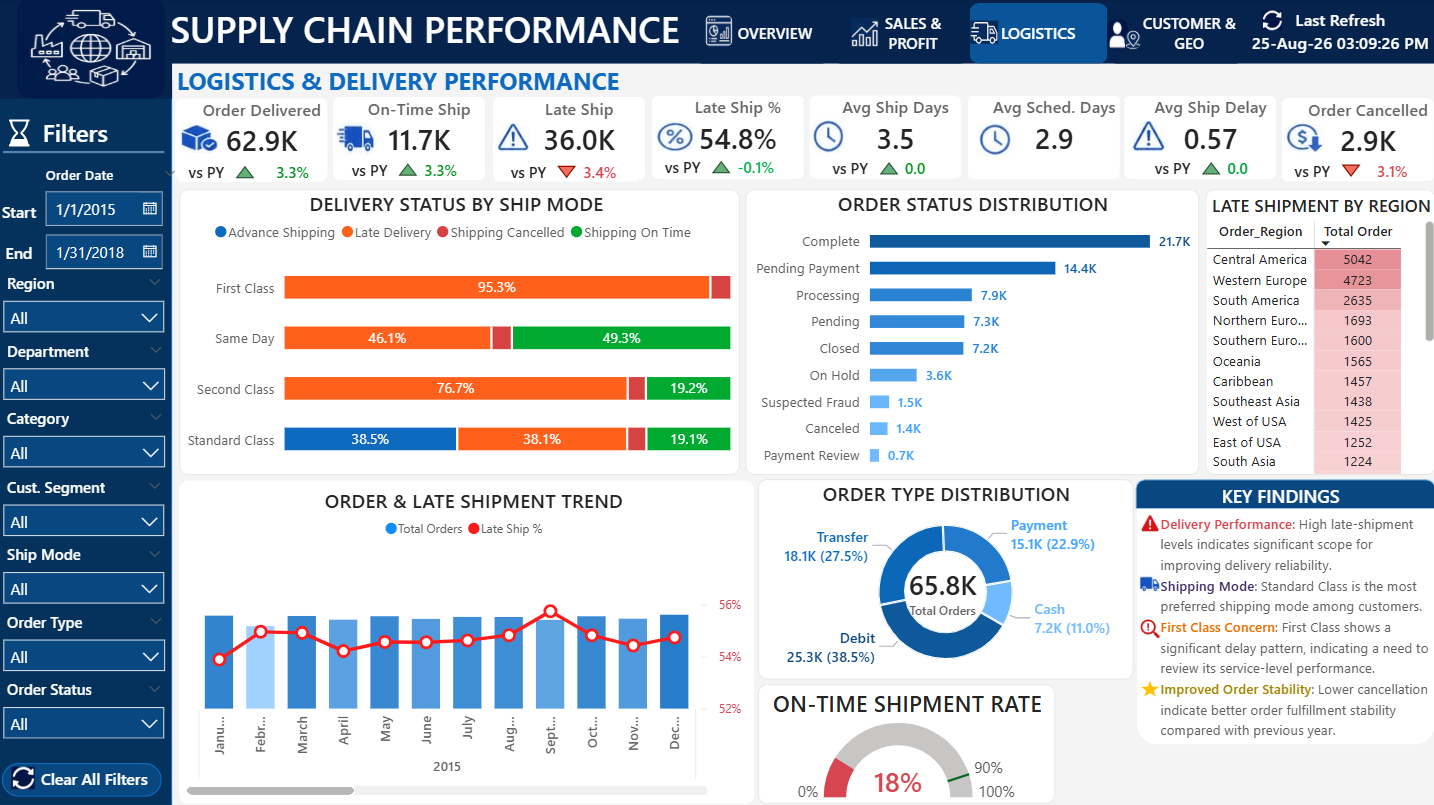

What the dashboard file says about the page in this screenshot:
{"tool":"powerbi","page":{"name":"LOGISTICS","canvas":[1280,720],"ordinal":2},"visuals":[{"type":"image","box":[16.8,0,131.8,89.9],"z":0,"group":"g32"},{"type":"shape","box":[146.2,0,1133.8,58.7],"z":0},{"type":"pageNavigator","box":[618.8,4.7,493.5,54.1],"z":0,"group":"g34"},{"type":"image","box":[758.9,18.4,24.8,25.9],"z":0,"group":"g8"},{"type":"group","id":"g1","title":"Group 10","box":[987.4,19,30.6,27.2],"z":0,"group":"g15"},{"type":"group","id":"g2","title":"Group 9","box":[987.4,19,18.8,27.1],"z":0,"group":"g1"},{"type":"image","box":[987.4,19,18.8,27.1],"z":0,"group":"g2"},{"type":"image","box":[866,20.5,25,20.6],"z":0,"group":"g19"},{"type":"shape","box":[722.4,86.9,135.6,74.4],"z":0,"group":"g9"},{"type":"shape","box":[863.9,86.9,135.6,74.4],"z":0,"group":"g30"},{"type":"shape","box":[1002.4,86.9,135.6,74.4],"z":0,"group":"g20"},{"type":"shape","box":[582.4,87.2,135.6,74.4],"z":0,"group":"g28"},{"type":"shape","box":[441.1,87.5,135.6,74.4],"z":0,"group":"g16"},{"type":"shape","box":[298.6,88,135.6,74.4],"z":0,"group":"g33"},{"type":"group","id":"g3","title":"Group 18","box":[157.8,88.6,135.6,75.5],"z":0,"group":"g35"},{"type":"shape","box":[157.8,88.6,135.6,74.4],"z":0,"group":"g3"},{"type":"shape","box":[1143.5,88.7,135.6,74.4],"z":0,"group":"g31"},{"type":"textbox","box":[3.8,104.5,128.8,32.5],"z":0,"group":"g10"},{"type":"image","box":[723.9,108,31.1,30.6],"z":0,"group":"g21"},{"type":"image","box":[1006,109,34.4,28.3],"z":0,"group":"g22"},{"type":"image","box":[161.4,109.5,35.6,28.3],"z":0,"group":"g23"},{"type":"image","box":[584.1,109.8,35,27.8],"z":0,"group":"g24"},{"type":"image","box":[299.3,110,37.8,29.4],"z":0,"group":"g25"},{"type":"image","box":[440.9,110.8,33.9,25.6],"z":0,"group":"g26"},{"type":"image","box":[1146,111.3,38.8,26.2],"z":0,"group":"g27"},{"type":"image","box":[871.5,111.7,31.7,29.4],"z":0,"group":"g17"},{"type":"group","id":"g4","title":"Group 6","box":[0,149.5,166.3,563.8],"z":0,"group":"g29"},{"type":"group","id":"g5","title":"Group 4","box":[0,149.5,166.3,511.2],"z":0,"group":"g4"},{"type":"group","id":"g6","title":"Group 1","box":[34.7,149.5,131.2,97.5],"z":0,"group":"g11"},{"type":"slicer","fields":{"Values":["Dim_Date.Order_Date"]},"box":[34.7,149.5,131.2,97.5],"z":0,"group":"g6"},{"type":"hundredPercentStackedBarChart","title":"DELIVERY STATUS BY SHIP MODE","fields":{"Category":["Dim_Ship.Ship_Mode"],"Y":["_Measures.Total Orders"],"Series":["Dim_Ship.Ship_Status"]},"box":[161,170,499,254],"z":0,"group":"g36"},{"type":"group","id":"g7","title":"Group 2","box":[0,245.7,153.8,415],"z":0,"group":"g5"},{"type":"donutChart","title":"ORDER TYPE DISTRIBUTION","fields":{"Y":["_Measures.Total Orders"],"Category":["Fact_Order.Order_Type"]},"box":[676.7,428.9,334.4,178.7],"z":0,"group":"g37"},{"type":"shape","box":[1013.3,428.9,267.4,26.7],"z":0,"group":"g41"},{"type":"lineClusteredColumnComboChart","title":"ORDER & LATE SHIPMENT TREND","fields":{"Y":["_Measures.Total Orders"],"Y2":["_Measures.Late Ship %"],"Category":["Dim_Date.Order_Date.Variation.Date Hierarchy.Year","Dim_Date.Order_Date.Variation.Date Hierarchy.Month"]},"box":[161,430,512,288],"z":0,"group":"g38"},{"type":"shape","box":[1014,430,266,235],"z":0,"group":"g39"},{"type":"textbox","box":[1034.8,458,245.6,203.3],"z":0,"group":"g12"},{"type":"image","box":[1016.8,460,17,16],"z":0,"group":"g13"},{"type":"slicer","fields":{"Values":["Dim_Ship.Ship_Mode"]},"box":[0,487.1,152.6,52.9],"z":0,"group":"g7"},{"type":"image","box":[1016.7,553.3,19,17],"z":0,"group":"g40"},{"type":"image","box":[1016.1,606.9,19,17],"z":0,"group":"g18"},{"type":"shape","box":[3.8,681.7,142.5,30],"z":0,"group":"g14"},{"type":"group","id":"g8","title":"Group 14","box":[758.9,18.4,24.1,24.8],"z":1000,"group":"g34"},{"type":"image","box":[1002.7,29,15.3,17.2],"z":1000,"group":"g1"},{"type":"shape","box":[0,75,155,645],"z":1000},{"type":"group","id":"g9","title":"Group 18","box":[722.4,86.9,135.6,74.4],"z":1000,"group":"g35"},{"type":"cardVisual","fields":{"Data":["_Measures.Avg Scheduled Ship Days"]},"box":[882.8,86.9,116.7,53],"z":1000,"group":"g30"},{"type":"group","id":"g10","title":"Group 7","box":[3,104.5,144.5,45],"z":1000,"group":"g29"},{"type":"tableEx","fields":{"Values":["Table.Column1","_Measures.YoY Late Ship % %"]},"box":[585.1,120,130.6,40],"z":1000,"group":"g28"},{"type":"tableEx","fields":{"Values":["Table.Column1","_Measures.YoY Avg Ship Days"]},"box":[735,120.7,118.8,40],"z":1000,"group":"g9"},{"type":"tableEx","fields":{"Values":["Table.Column1","_Measures.YoY Delay Days"]},"box":[1020,120.7,117.5,42.5],"z":1000,"group":"g20"},{"type":"tableEx","fields":{"Values":["Table.Column1","_Measures.YoY On Time %"]},"box":[300.6,121.9,131.2,40],"z":1000,"group":"g33"},{"type":"tableEx","fields":{"Values":["Table.Column1","_Measures.YoY Ship Cancelled %"]},"box":[1147.9,122,128.8,43],"z":1000,"group":"g31"},{"type":"tableEx","fields":{"Values":["Table.Column1","_Measures.YoY Late Ship order %"]},"box":[442.1,123,132.9,40],"z":1000,"group":"g16"},{"type":"tableEx","fields":{"Values":["Table.Column1","_Measures.YoY Order Delivered %"]},"box":[159.7,123.5,131.2,40.6],"z":1000,"group":"g3"},{"type":"shape","box":[3.8,124.5,143.8,25],"z":1000,"group":"g10"},{"type":"group","id":"g11","title":"Group 3","box":[1.3,149.5,165,106.2],"z":1000,"group":"g5"},{"type":"textbox","box":[1.3,180.3,35.1,75],"z":1000,"group":"g11"},{"type":"textbox","box":[1090.2,431.8,116.1,23.3],"z":1000,"group":"g41"},{"type":"group","id":"g12","title":"Group 23","box":[1015,458,265.3,203.3],"z":1000,"group":"g39"},{"type":"group","id":"g13","title":"Group 14","box":[1016.8,460,17,16],"z":1000,"group":"g12"},{"type":"cardVisual","fields":{"Data":["_Measures.Total Orders"]},"box":[789.4,505.2,104.5,47.9],"z":1000,"group":"g37"},{"type":"slicer","fields":{"Values":["Fact_Order.Order_Type"]},"box":[0,547.5,153.8,52.9],"z":1000,"group":"g7"},{"type":"group","id":"g14","title":"Group 5","box":[3.8,679.5,145.3,33.8],"z":1000,"group":"g4"},{"type":"textbox","box":[30,686.7,111.2,26.2],"z":1000,"group":"g14"},{"type":"group","id":"g15","title":"Group 11","box":[987.4,19,30.6,27.2],"z":2000,"group":"g34"},{"type":"cardVisual","fields":{"Data":["_Measures.Avg Ship Days"]},"box":[741.3,86.9,116.7,53],"z":2000,"group":"g9"},{"type":"cardVisual","fields":{"Data":["_Measures.Avg Ship Delay"]},"box":[1021.3,86.9,116.7,53],"z":2000,"group":"g20"},{"type":"cardVisual","fields":{"Data":["_Measures.Late Ship %"]},"box":[601.3,87.2,116.7,53],"z":2000,"group":"g28"},{"type":"group","id":"g16","title":"Group 18","box":[440.9,87.5,135.7,75.5],"z":2000,"group":"g35"},{"type":"cardVisual","fields":{"Data":["_Measures.Late Ship Order"]},"box":[460,87.5,116.7,53],"z":2000,"group":"g16"},{"type":"cardVisual","fields":{"Data":["_Measures.On-Time Ship Order"]},"box":[317.5,88,116.7,53],"z":2000,"group":"g33"},{"type":"cardVisual","fields":{"Data":["_Measures.Total Order Delivered"]},"box":[176.7,88.6,116.7,53],"z":2000,"group":"g3"},{"type":"cardVisual","fields":{"Data":["_Measures.Ship Cancelled Order"]},"box":[1162.4,88.7,116.7,53],"z":2000,"group":"g31"},{"type":"image","box":[3,105.5,31.2,29],"z":2000,"group":"g10"},{"type":"group","id":"g17","title":"Group 14","box":[871.5,111.7,31.7,29.4],"z":2000,"group":"g30"},{"type":"tableEx","title":"LATE SHIPMENT BY REGION","fields":{"Values":["Dim_Location.Order_Region","_Measures.Late Ship Order"]},"box":[1075,170,205,254],"z":2000},{"type":"slicer","fields":{"Values":["Dim_Customer.Customer_Segment"]},"box":[0,426.8,152.6,52.9],"z":2000,"group":"g7"},{"type":"group","id":"g18","title":"Group 14","box":[1016.1,606.9,18.9,17.8],"z":2000,"group":"g12"},{"type":"image","box":[11,685.4,22.5,20],"z":2000,"group":"g14"},{"type":"shape","box":[0,0,155,89.9],"z":3000},{"type":"group","id":"g19","title":"Group 12","box":[866,20.5,25,20.6],"z":3000,"group":"g34"},{"type":"group","id":"g20","title":"Group 18","box":[1002.4,86.9,135.6,76.3],"z":3000,"group":"g35"},{"type":"group","id":"g21","title":"Group 14","box":[723.9,108,31.1,30.6],"z":3000,"group":"g9"},{"type":"group","id":"g22","title":"Group 14","box":[1006,109,34.4,28.3],"z":3000,"group":"g20"},{"type":"group","id":"g23","title":"Group 14","box":[161.4,109.5,35.6,28.3],"z":3000,"group":"g3"},{"type":"group","id":"g24","title":"Group 14","box":[584.1,109.8,35,27.8],"z":3000,"group":"g28"},{"type":"group","id":"g25","title":"Group 14","box":[299.3,110,37.8,29.4],"z":3000,"group":"g33"},{"type":"group","id":"g26","title":"Group 14","box":[440.9,110.8,33.9,25.6],"z":3000,"group":"g16"},{"type":"group","id":"g27","title":"Group 14","box":[1146,111.3,38.8,26.2],"z":3000,"group":"g31"},{"type":"image","box":[1015,513.6,21,16.7],"z":3000,"group":"g12"},{"type":"slicer","fields":{"Values":["Fact_Order.Order_Status"]},"box":[0,607.8,152.6,52.9],"z":3000,"group":"g7"},{"type":"actionButton","box":[4.1,679.5,145,33.8],"z":3000,"group":"g14"},{"type":"image","box":[1125.4,11.5,18.8,17.3],"z":4000,"group":"g42"},{"type":"image","box":[628.9,15.2,25.9,29.9],"z":4000,"group":"g34"},{"type":"group","id":"g28","title":"Group 18","box":[582.4,87.2,135.6,74.4],"z":4000,"group":"g35"},{"type":"group","id":"g29","title":"Group 8","box":[0,104.5,166.3,608.8],"z":4000},{"type":"slicer","fields":{"Values":["Dim_Department.Department_Name"]},"box":[0,306.1,153.8,52.9],"z":4000,"group":"g7"},{"type":"textbox","box":[153.4,6,465,43.1],"z":5000},{"type":"group","id":"g30","title":"Group 18","box":[863.9,86.9,135.6,74.4],"z":5000,"group":"g35"},{"type":"slicer","fields":{"Values":["Dim_Location.Order_Region"]},"box":[0,245.7,152.6,52.9],"z":5000,"group":"g7"},{"type":"textbox","box":[159,58.7,433,31.2],"z":6000},{"type":"group","id":"g31","title":"Group 18","box":[1143.5,88.7,135.6,76.3],"z":6000,"group":"g35"},{"type":"slicer","fields":{"Values":["Dim_Product.Category_Name"]},"box":[0,366.4,153.8,52.9],"z":6000,"group":"g7"},{"type":"cardVisual","fields":{"Data":["Min(Last Refresh.Last Refresh)"]},"box":[1112.4,7.2,167.4,44.7],"z":6500,"group":"g42"},{"type":"group","id":"g32","title":"Group 9","box":[16.8,0,131.8,89.9],"z":7000},{"type":"group","id":"g33","title":"Group 18","box":[298.6,88,135.6,74.4],"z":7000,"group":"g35"},{"type":"group","id":"g34","title":"Group 13","box":[618.8,4.7,493.5,54.1],"z":8000},{"type":"group","id":"g35","title":"Group 15","box":[157.8,86.9,1121.3,78.1],"z":9000},{"type":"group","id":"g36","title":"Group 17","box":[161,170,499,254],"z":10000},{"type":"clusteredBarChart","title":"ORDER STATUS DISTRIBUTION","fields":{"Category":["Fact_Order.Order_Status"],"Y":["_Measures.Total Orders"]},"box":[666,170,404,254],"z":11000},{"type":"group","id":"g37","title":"Group 17","box":[676.7,428.9,334,178.9],"z":12000},{"type":"group","id":"g38","title":"Group 21","box":[161,430,512,288],"z":13000},{"type":"gauge","title":"ON-TIME SHIPMENT RATE","fields":{"Y":["_Measures.On Time Ship %"],"TargetValue":["_Measures.On-Time Ship Target"]},"box":[676.7,611.1,264.4,106.7],"z":14000},{"type":"group","id":"g39","title":"Group 24","box":[1014,430,266.3,235],"z":15000},{"type":"group","id":"g40","title":"Group 14","box":[1016.7,553.3,18.9,17.8],"z":16000},{"type":"group","id":"g41","title":"Group 25","box":[1013.3,428.9,267.8,26.7],"z":17000},{"type":"group","id":"g42","title":"Group 20","box":[1112.4,7.2,167.4,44.7],"z":18000}]}

Visuals, with their boxes in screenshot pixels (x1, y1, x2, y2), scaled from the page's 1280x720 canvas onto the 1434x805 screenshot:
image: <box>19,0,166,101</box>
shape: <box>164,0,1433,66</box>
pageNavigator: <box>693,5,1246,66</box>
image: <box>850,21,878,50</box>
"Group 10" group: <box>1106,21,1140,52</box>
"Group 9" group: <box>1106,21,1127,52</box>
image: <box>1106,21,1127,52</box>
image: <box>970,23,998,46</box>
shape: <box>809,97,961,180</box>
shape: <box>968,97,1120,180</box>
shape: <box>1123,97,1275,180</box>
shape: <box>652,97,804,181</box>
shape: <box>494,98,646,181</box>
shape: <box>335,98,486,182</box>
"Group 18" group: <box>177,99,329,183</box>
shape: <box>177,99,329,182</box>
shape: <box>1281,99,1433,182</box>
textbox: <box>4,117,149,153</box>
image: <box>811,121,846,155</box>
image: <box>1127,122,1166,154</box>
image: <box>181,122,221,154</box>
image: <box>654,123,694,154</box>
image: <box>335,123,378,156</box>
image: <box>494,124,532,153</box>
image: <box>1284,124,1327,154</box>
image: <box>976,125,1012,158</box>
"Group 6" group: <box>0,167,186,798</box>
"Group 4" group: <box>0,167,186,739</box>
"Group 1" group: <box>39,167,186,276</box>
slicer - Dim_Date.Order_Date: <box>39,167,186,276</box>
"DELIVERY STATUS BY SHIP MODE" hundredPercentStackedBarChart: <box>180,190,739,474</box>
"Group 2" group: <box>0,275,172,739</box>
"ORDER TYPE DISTRIBUTION" donutChart: <box>758,480,1133,679</box>
shape: <box>1135,480,1433,509</box>
"ORDER & LATE SHIPMENT TREND" lineClusteredColumnComboChart: <box>180,481,754,803</box>
shape: <box>1136,481,1433,744</box>
textbox: <box>1159,512,1433,739</box>
image: <box>1139,514,1158,532</box>
slicer - Dim_Ship.Ship_Mode: <box>0,545,171,604</box>
image: <box>1139,619,1160,638</box>
image: <box>1138,679,1160,698</box>
shape: <box>4,762,164,796</box>
"Group 14" group: <box>850,21,877,48</box>
image: <box>1123,32,1140,52</box>
shape: <box>0,84,174,804</box>
"Group 18" group: <box>809,97,961,180</box>
cardVisual - _Measures.Avg Scheduled Ship Days: <box>989,97,1120,156</box>
"Group 7" group: <box>3,117,165,167</box>
tableEx - Table.Column1 x _Measures.YoY Late Ship % %: <box>655,134,802,179</box>
tableEx - Table.Column1 x _Measures.YoY Avg Ship Days: <box>823,135,957,180</box>
tableEx - Table.Column1 x _Measures.YoY Delay Days: <box>1143,135,1274,182</box>
tableEx - Table.Column1 x _Measures.YoY On Time %: <box>337,136,484,181</box>
tableEx - Table.Column1 x _Measures.YoY Ship Cancelled %: <box>1286,136,1430,184</box>
tableEx - Table.Column1 x _Measures.YoY Late Ship order %: <box>495,138,644,182</box>
tableEx - Table.Column1 x _Measures.YoY Order Delivered %: <box>179,138,326,183</box>
shape: <box>4,139,165,167</box>
"Group 3" group: <box>1,167,186,286</box>
textbox: <box>1,202,41,285</box>
textbox: <box>1221,483,1351,509</box>
"Group 23" group: <box>1137,512,1433,739</box>
"Group 14" group: <box>1139,514,1158,532</box>
cardVisual - _Measures.Total Orders: <box>884,565,1001,618</box>
slicer - Fact_Order.Order_Type: <box>0,612,172,671</box>
"Group 5" group: <box>4,760,167,798</box>
textbox: <box>34,768,158,797</box>
"Group 11" group: <box>1106,21,1140,52</box>
cardVisual - _Measures.Avg Ship Days: <box>830,97,961,156</box>
cardVisual - _Measures.Avg Ship Delay: <box>1144,97,1275,156</box>
cardVisual - _Measures.Late Ship %: <box>674,97,804,157</box>
"Group 18" group: <box>494,98,646,182</box>
cardVisual - _Measures.Late Ship Order: <box>515,98,646,157</box>
cardVisual - _Measures.On-Time Ship Order: <box>356,98,486,158</box>
cardVisual - _Measures.Total Order Delivered: <box>198,99,329,158</box>
cardVisual - _Measures.Ship Cancelled Order: <box>1302,99,1433,158</box>
image: <box>3,118,38,150</box>
"Group 14" group: <box>976,125,1012,158</box>
"LATE SHIPMENT BY REGION" tableEx: <box>1204,190,1433,474</box>
slicer - Dim_Customer.Customer_Segment: <box>0,477,171,536</box>
"Group 14" group: <box>1138,679,1160,698</box>
image: <box>12,766,38,789</box>
shape: <box>0,0,174,101</box>
"Group 12" group: <box>970,23,998,46</box>
"Group 18" group: <box>1123,97,1275,182</box>
"Group 14" group: <box>811,121,846,155</box>
"Group 14" group: <box>1127,122,1166,154</box>
"Group 14" group: <box>181,122,221,154</box>
"Group 14" group: <box>654,123,694,154</box>
"Group 14" group: <box>335,123,378,156</box>
"Group 14" group: <box>494,124,532,153</box>
"Group 14" group: <box>1284,124,1327,154</box>
image: <box>1137,574,1161,593</box>
slicer - Fact_Order.Order_Status: <box>0,680,171,739</box>
actionButton: <box>5,760,167,798</box>
image: <box>1261,13,1282,32</box>
image: <box>705,17,734,50</box>
"Group 18" group: <box>652,97,804,181</box>
"Group 8" group: <box>0,117,186,798</box>
slicer - Dim_Department.Department_Name: <box>0,342,172,401</box>
textbox: <box>172,7,693,55</box>
"Group 18" group: <box>968,97,1120,180</box>
slicer - Dim_Location.Order_Region: <box>0,275,171,334</box>
textbox: <box>178,66,663,101</box>
"Group 18" group: <box>1281,99,1433,184</box>
slicer - Dim_Product.Category_Name: <box>0,410,172,469</box>
cardVisual - Min(Last Refresh.Last Refresh): <box>1246,8,1433,58</box>
"Group 9" group: <box>19,0,166,101</box>
"Group 18" group: <box>335,98,486,182</box>
"Group 13" group: <box>693,5,1246,66</box>
"Group 15" group: <box>177,97,1433,184</box>
"Group 17" group: <box>180,190,739,474</box>
"ORDER STATUS DISTRIBUTION" clusteredBarChart: <box>746,190,1199,474</box>
"Group 17" group: <box>758,480,1132,680</box>
"Group 21" group: <box>180,481,754,803</box>
"ON-TIME SHIPMENT RATE" gauge: <box>758,683,1054,803</box>
"Group 24" group: <box>1136,481,1433,744</box>
"Group 14" group: <box>1139,619,1160,639</box>
"Group 25" group: <box>1135,480,1433,509</box>
"Group 20" group: <box>1246,8,1433,58</box>
